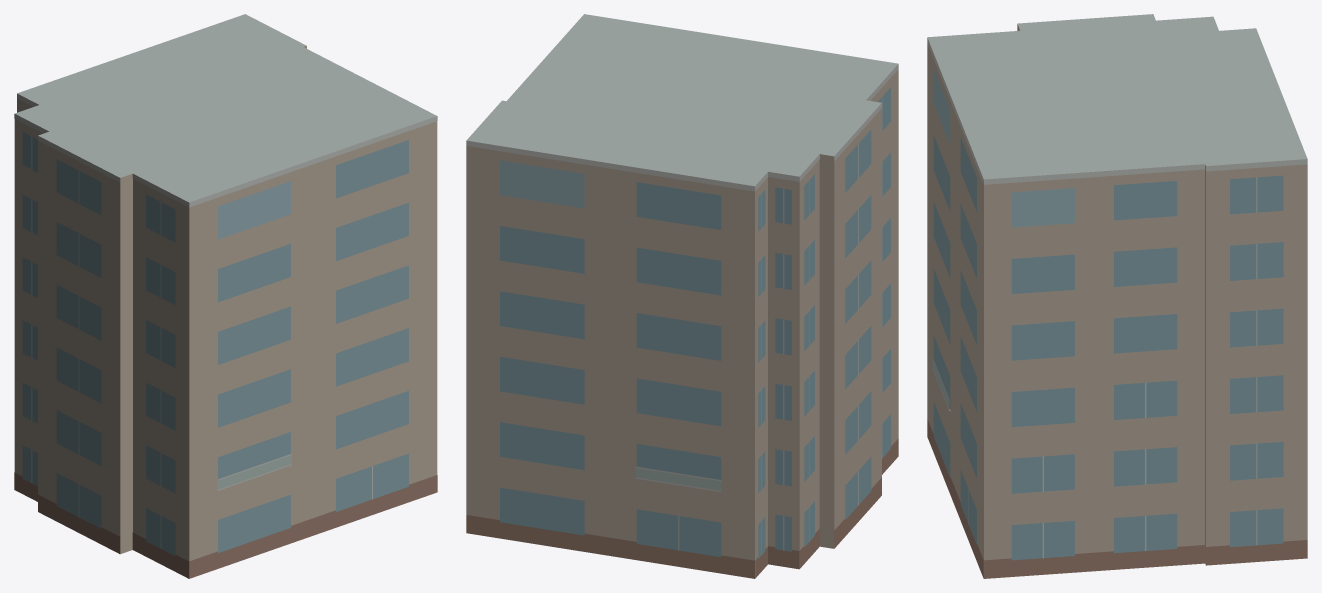
Rendered from survey-upis-32636338.glb.
3 renders of one model, left to right at view 1: azimuth 30°, elevation 25°; view 2: azimuth 150°, elevation 25°; view 3: azimuth 270°, elevation 25°, orthographic. The views are drawn at different scales.
Parts seen in each view (by area): view 1: survey-upis-32636338.tmp; view 2: survey-upis-32636338.tmp; view 3: survey-upis-32636338.tmp.
Part boxes in pixels (x1,y1,x2,y2): survey-upis-32636338.tmp: (14, 14, 437, 578); survey-upis-32636338.tmp: (466, 14, 898, 578); survey-upis-32636338.tmp: (927, 14, 1307, 578).
Bounding box in the file's own units: 16.27 × 18.3 × 15.81.
